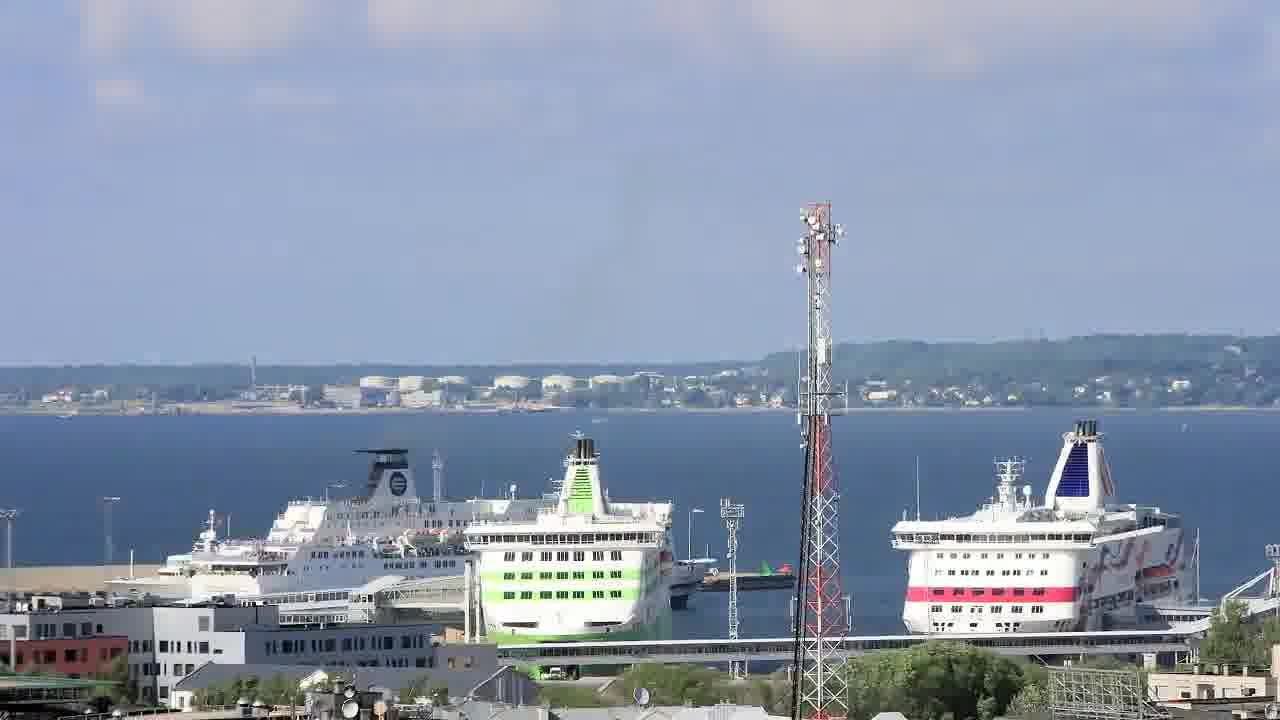type-3: (868, 415, 1225, 638), (189, 416, 536, 626), (436, 434, 694, 670), (84, 522, 246, 613)
